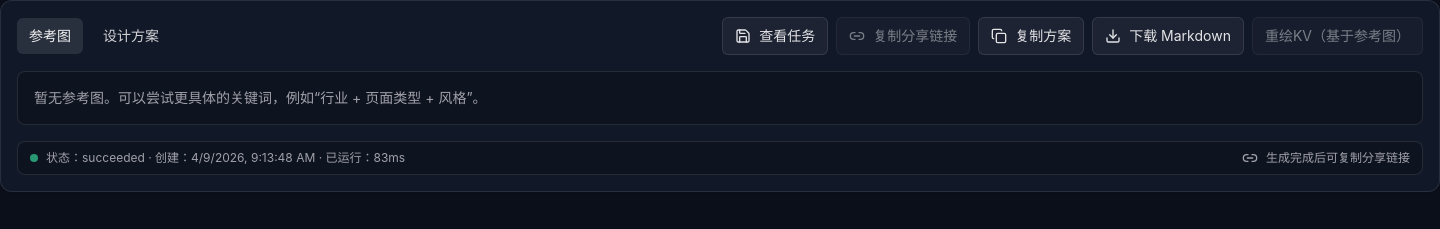
Test: ResultPanel › renders spec when tab switched
Click the button "设计方案" at (131, 36), box [91,18,171,54]
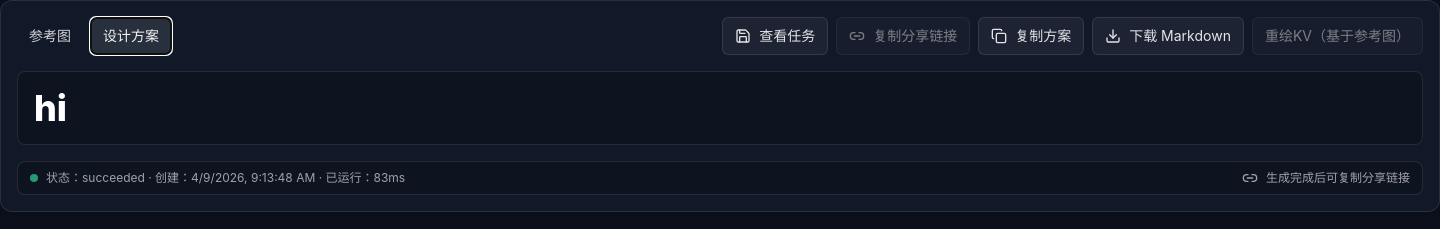
Expected: the heading "hi" is shown, [34,86,67,130]
